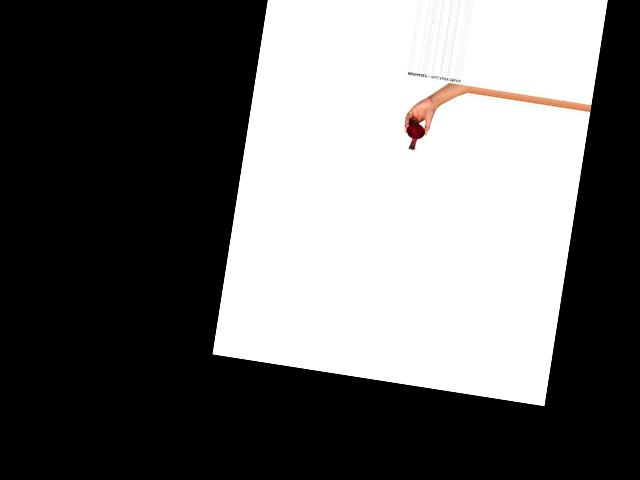beet: (403, 122, 425, 151)
